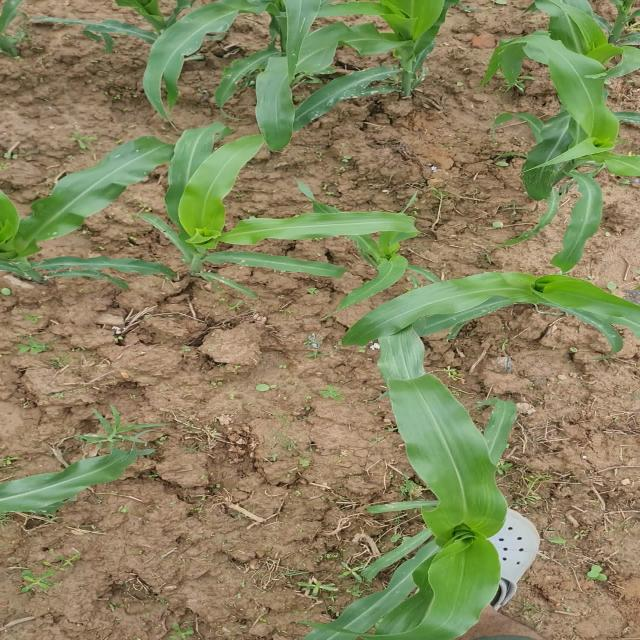maize: (4, 2, 640, 184), (9, 155, 309, 307), (378, 235, 626, 362), (392, 403, 503, 639), (0, 467, 129, 518)
weed: (67, 417, 184, 448), (298, 547, 367, 594), (12, 551, 78, 595), (6, 336, 87, 371)
